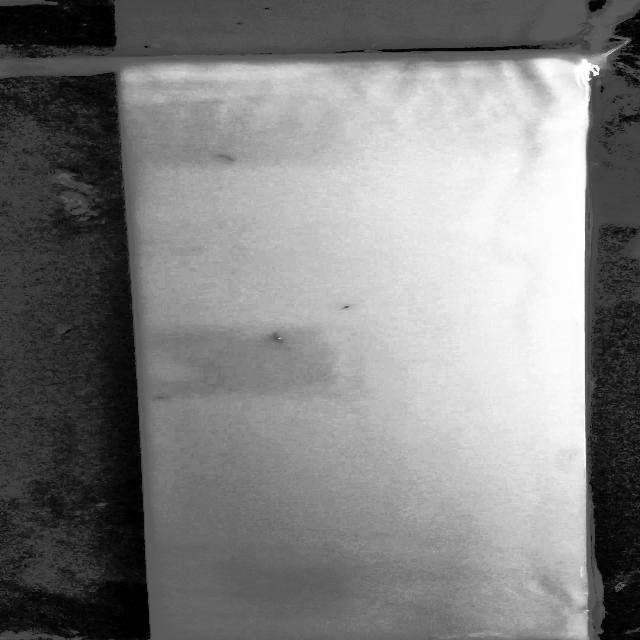shrimp: (252, 327, 307, 357)
